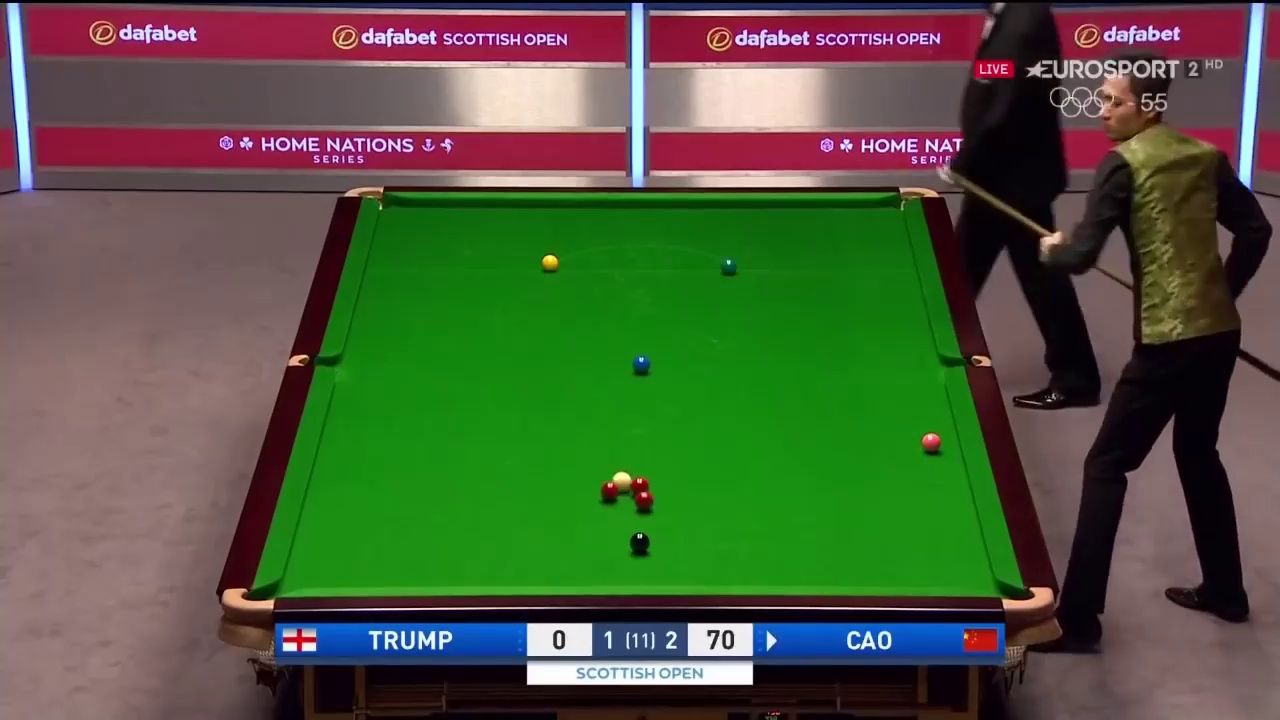black: (629, 532, 649, 553)
blue: (632, 357, 650, 374)
green: (719, 257, 737, 276)
red: (633, 491, 652, 511), (600, 483, 618, 500)
yellow: (539, 251, 559, 272)
